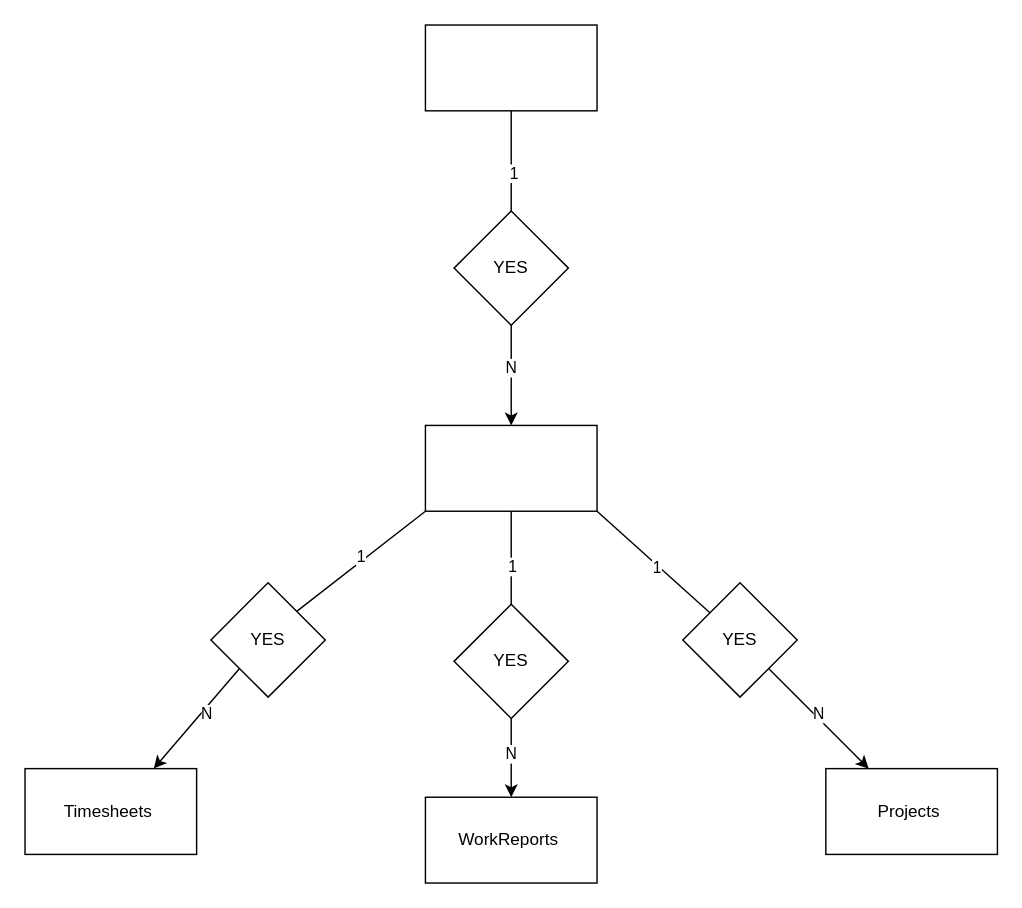
Image size: 1022x908. Some labels were removed from this diagram. The centre of each missing label's shape, as x and y in pixels:
"Departments" goes at point 510,67.
"Employees" goes at point 510,467.
